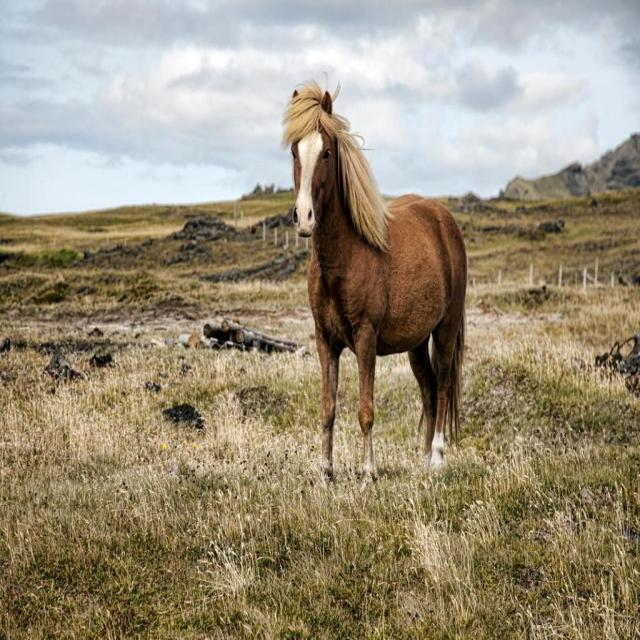Horse: (281, 69, 468, 497)
